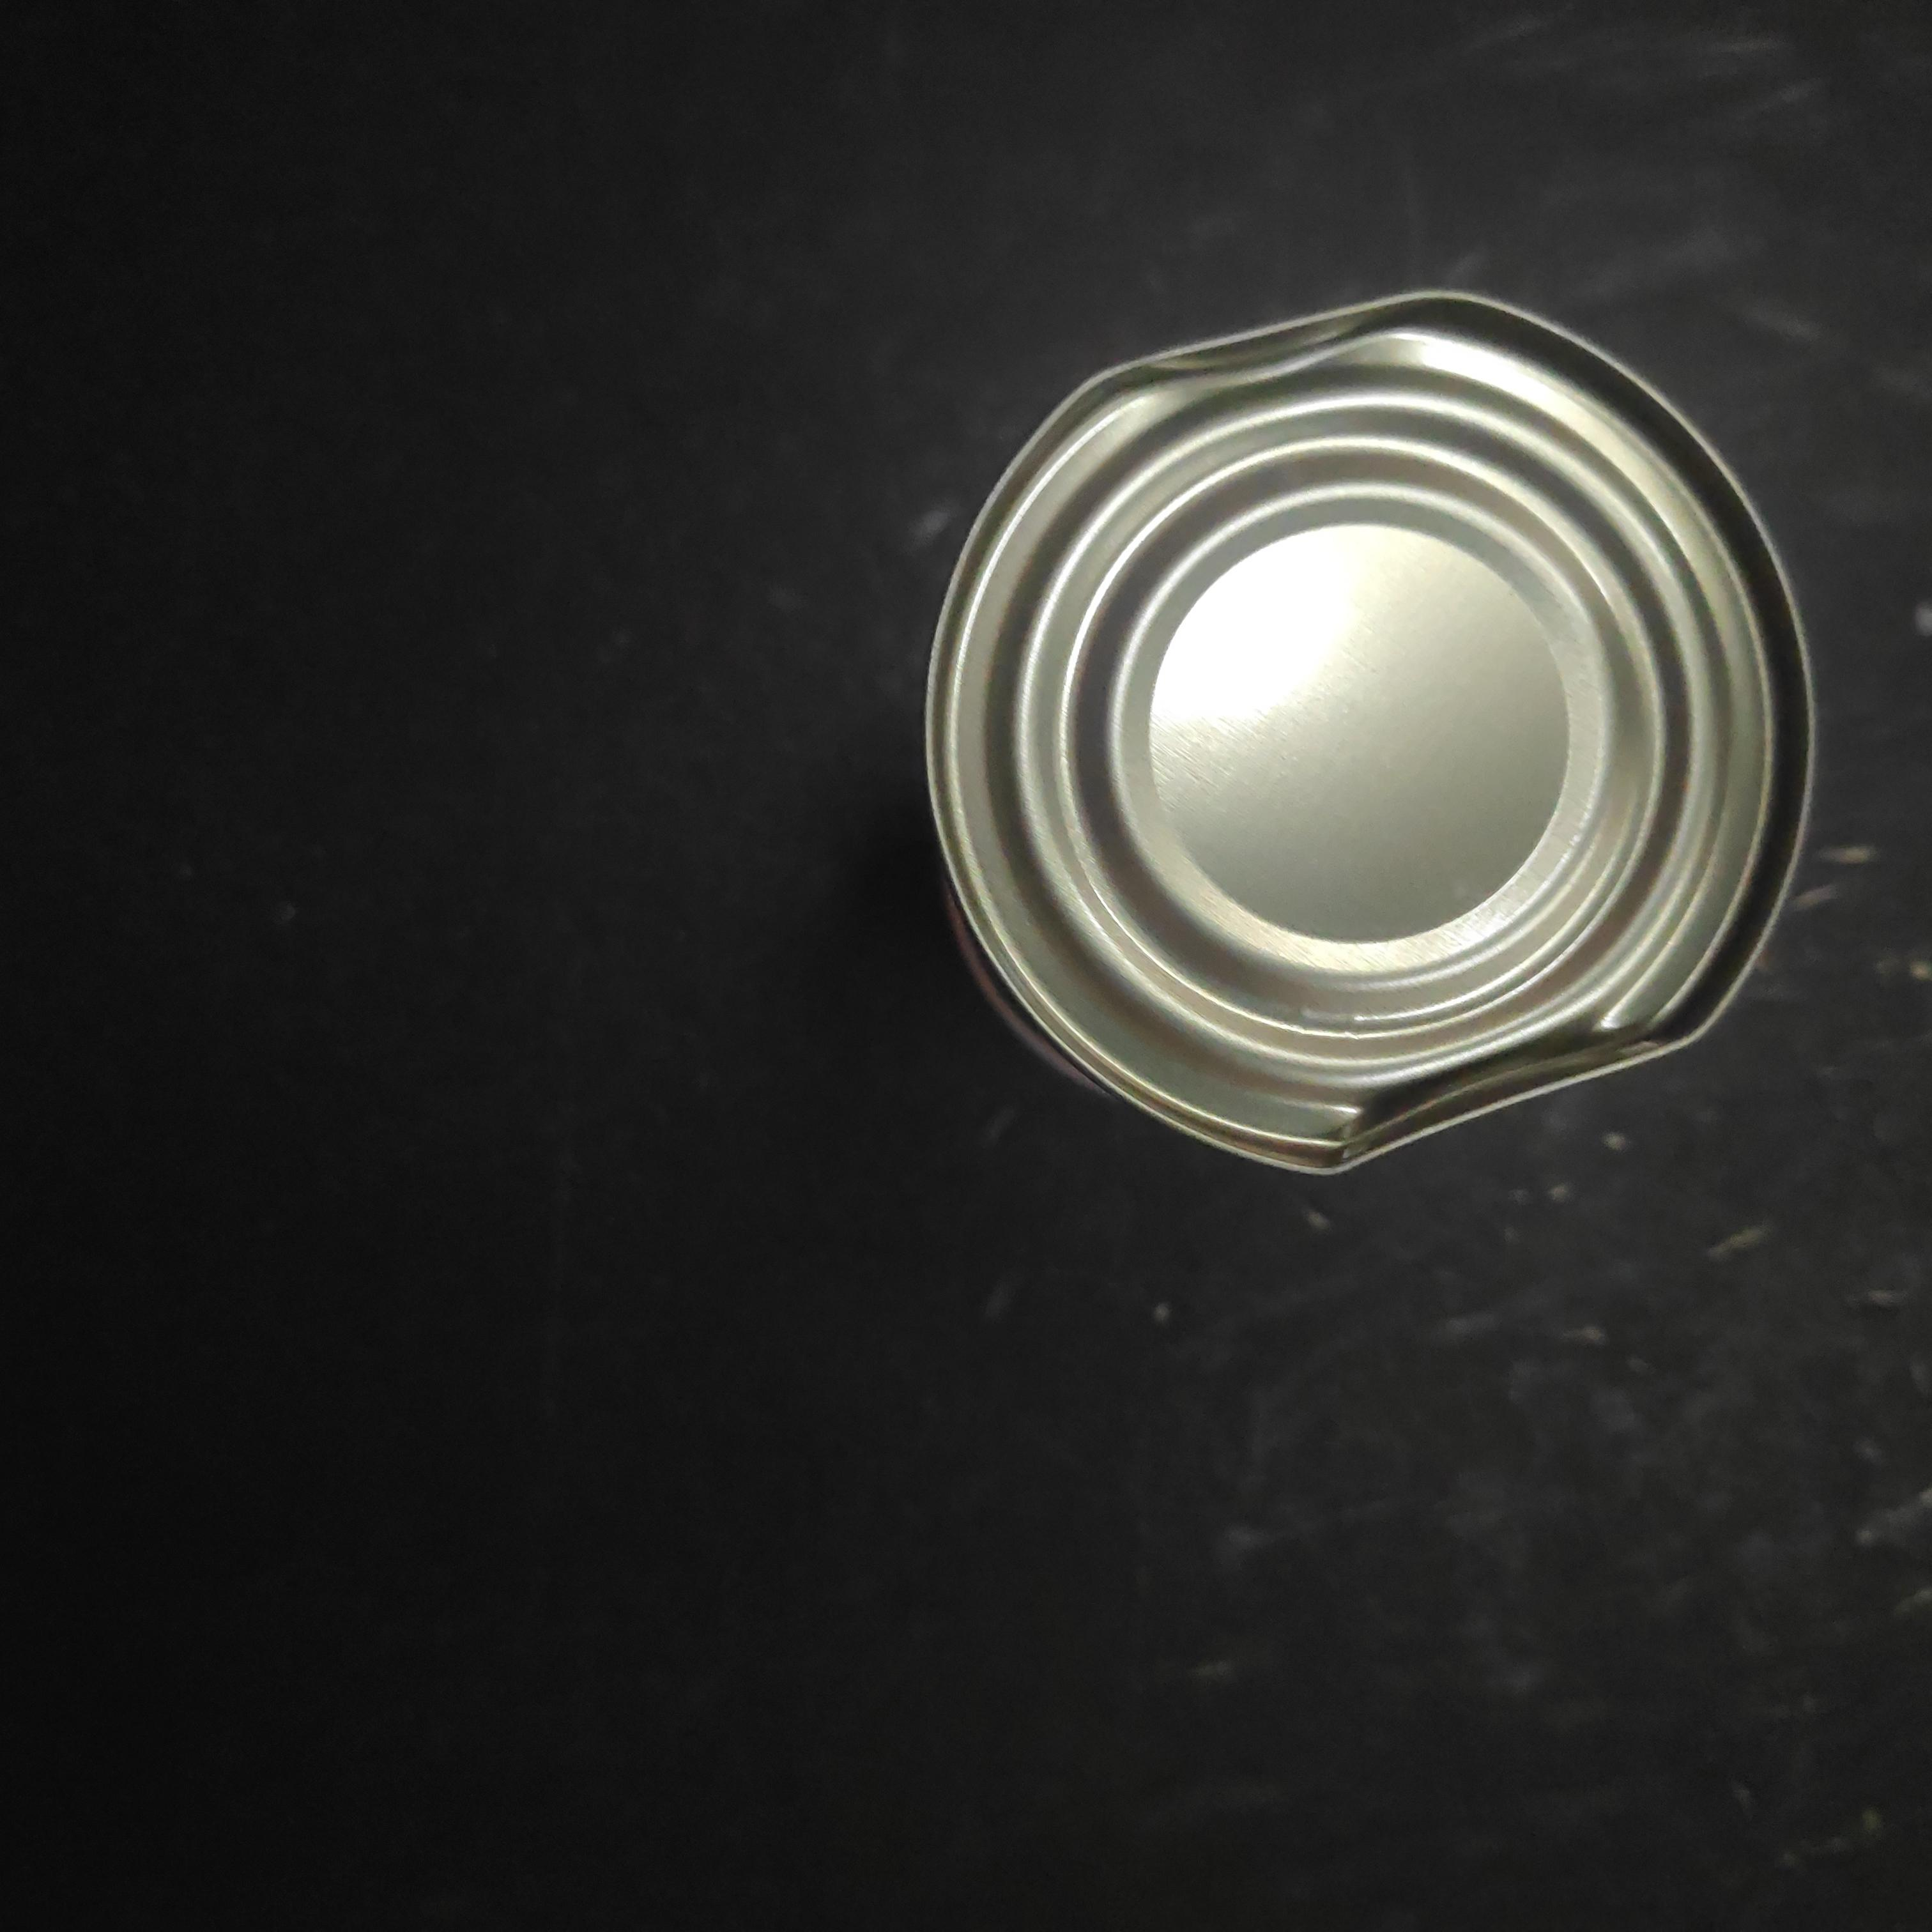Minor Defect: (908, 257, 1844, 1198)
